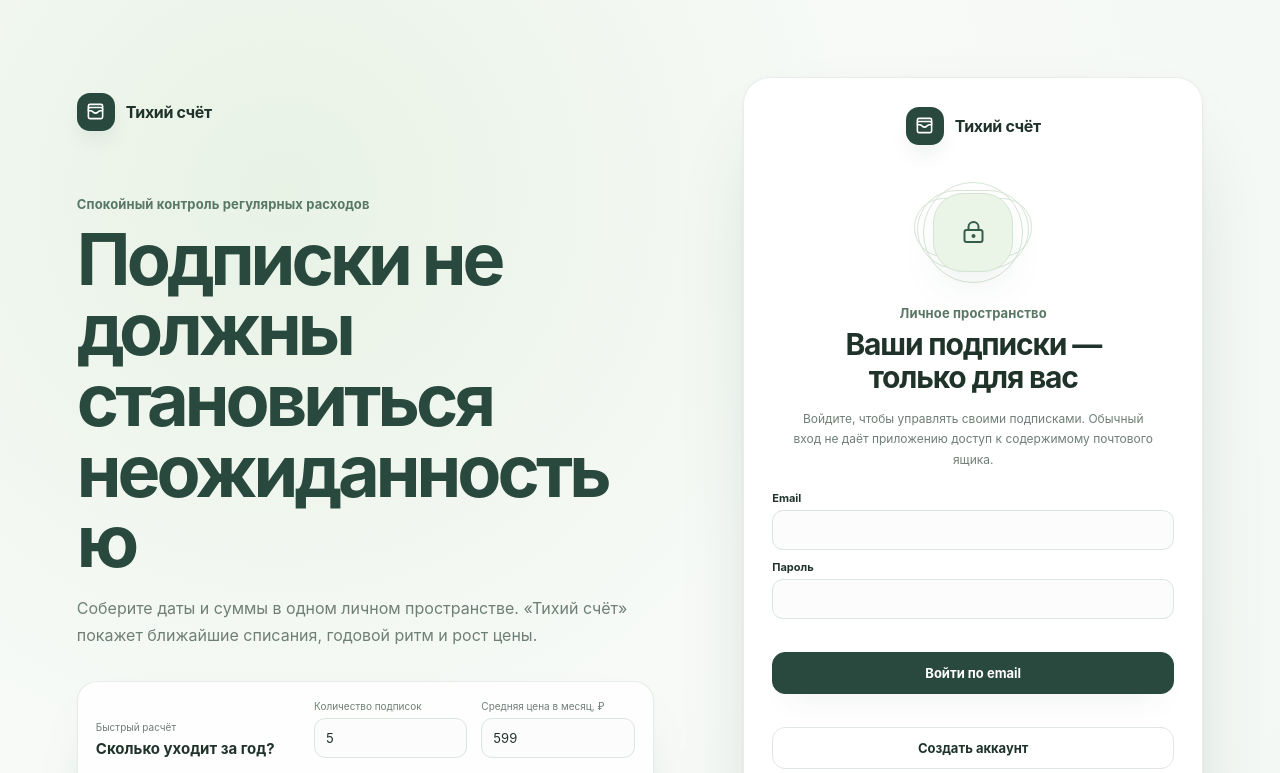
Test: email login reports a generic credential error without starting data streams
Type "person@example.com" into the field labelled "Email" at (973, 530), box top-left (772, 510), bottom-right (1174, 550)
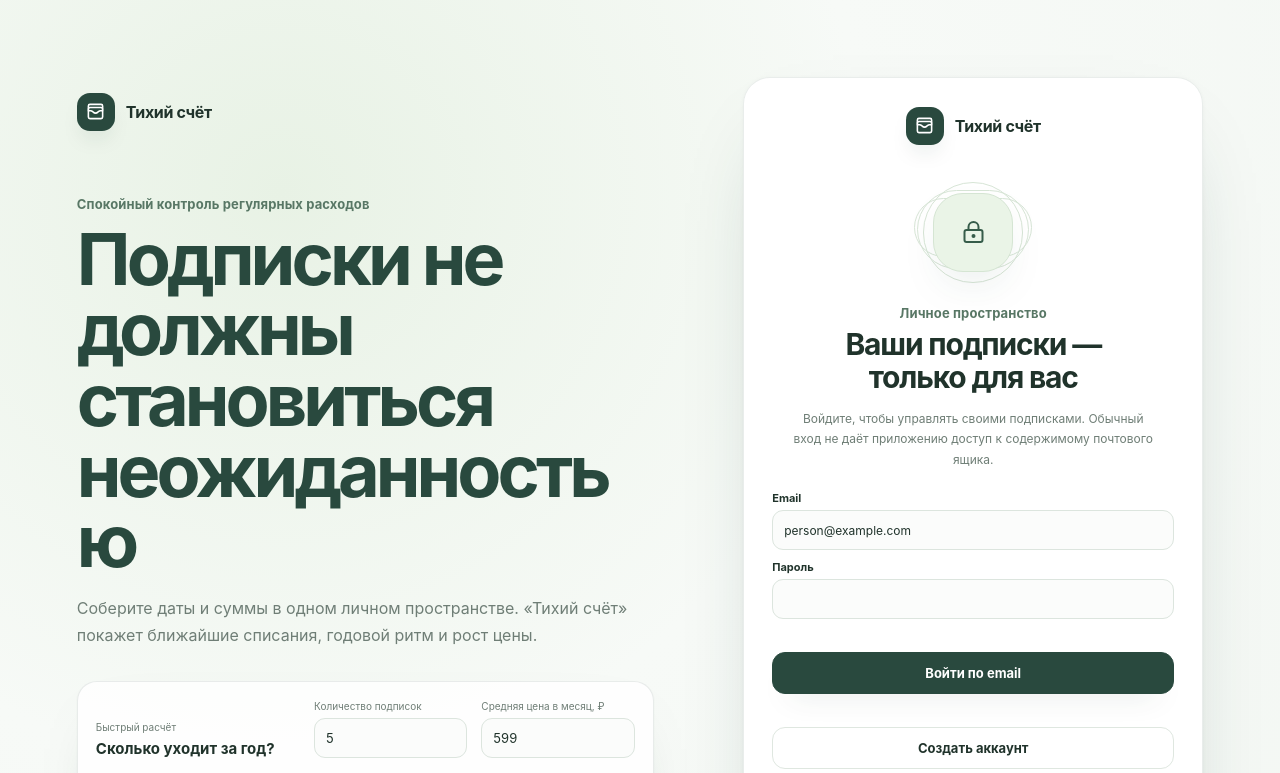
Type "private-password" into the password field labelled "Пароль" at (973, 599), box top-left (772, 579), bottom-right (1174, 619)
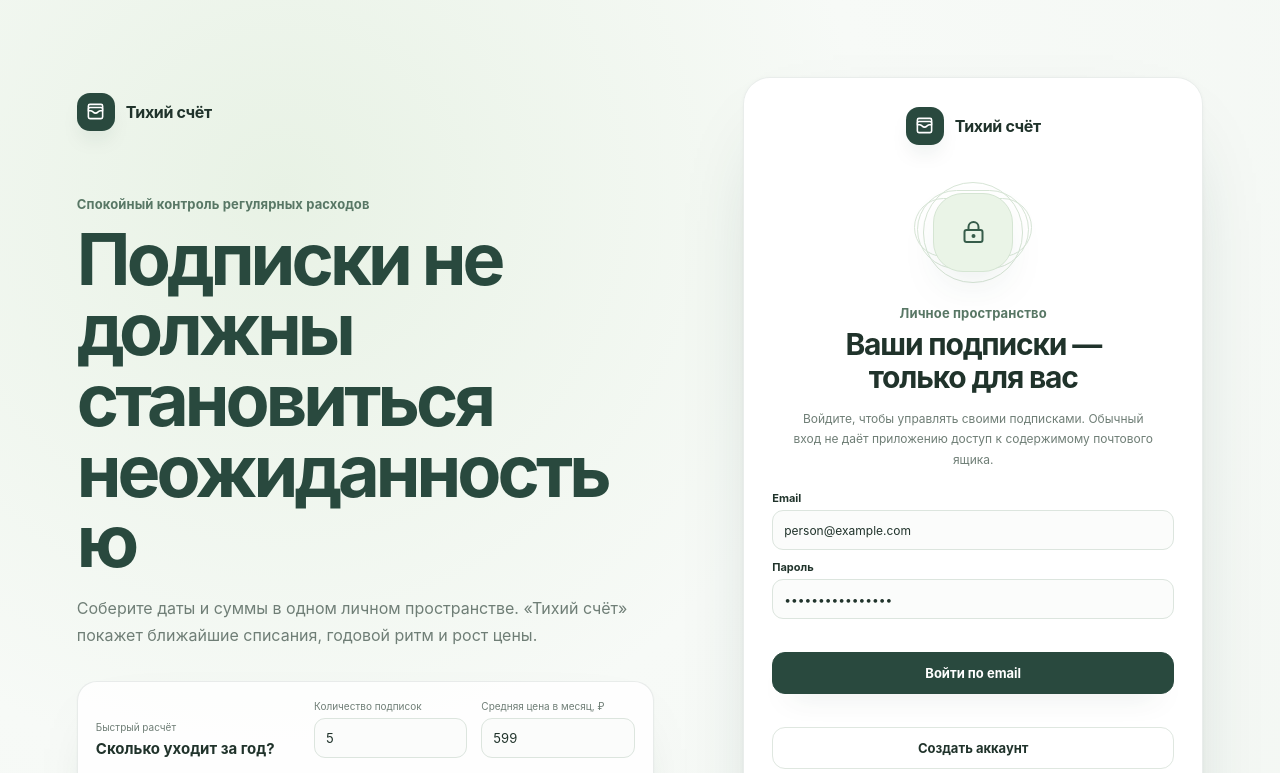
Click the button "Войти по email" at (973, 673), box top-left (772, 652), bottom-right (1174, 694)
(page scrolled)
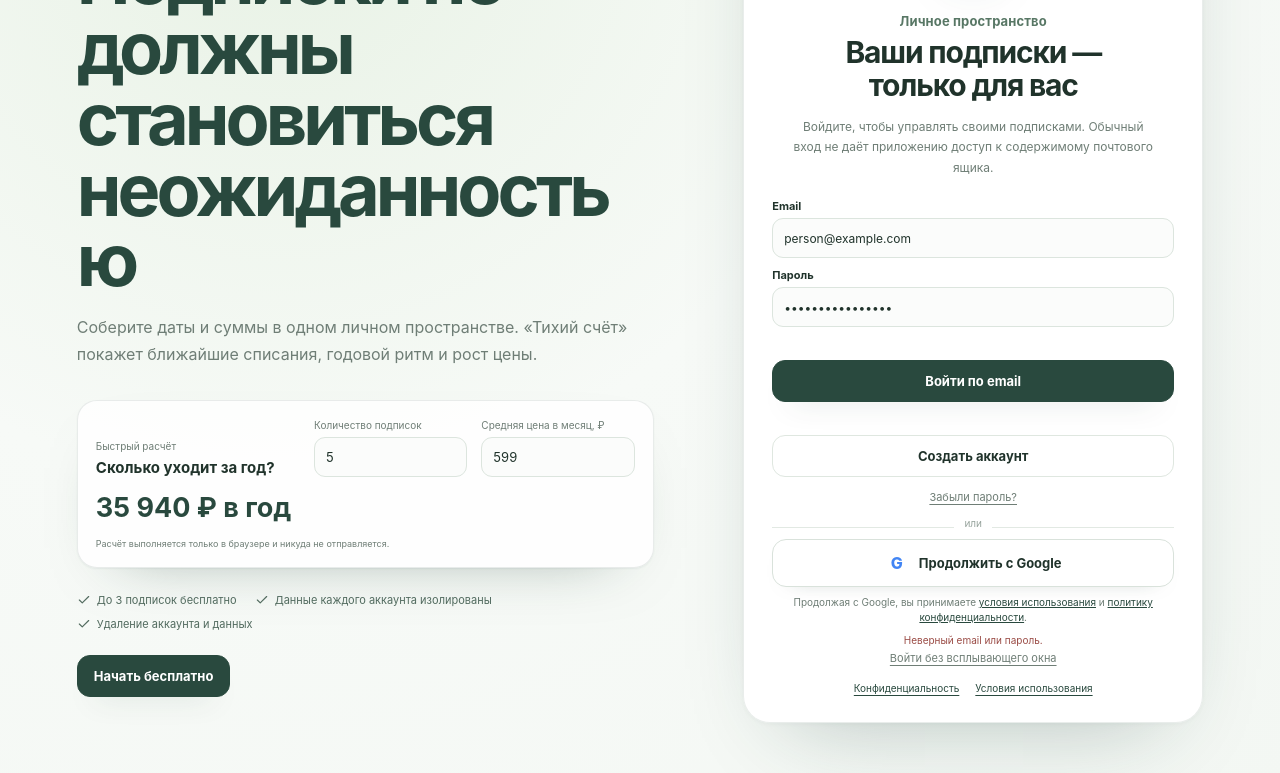
Check: the message reads "Неверный email или пароль.", box top-left (904, 634), bottom-right (1043, 646)
